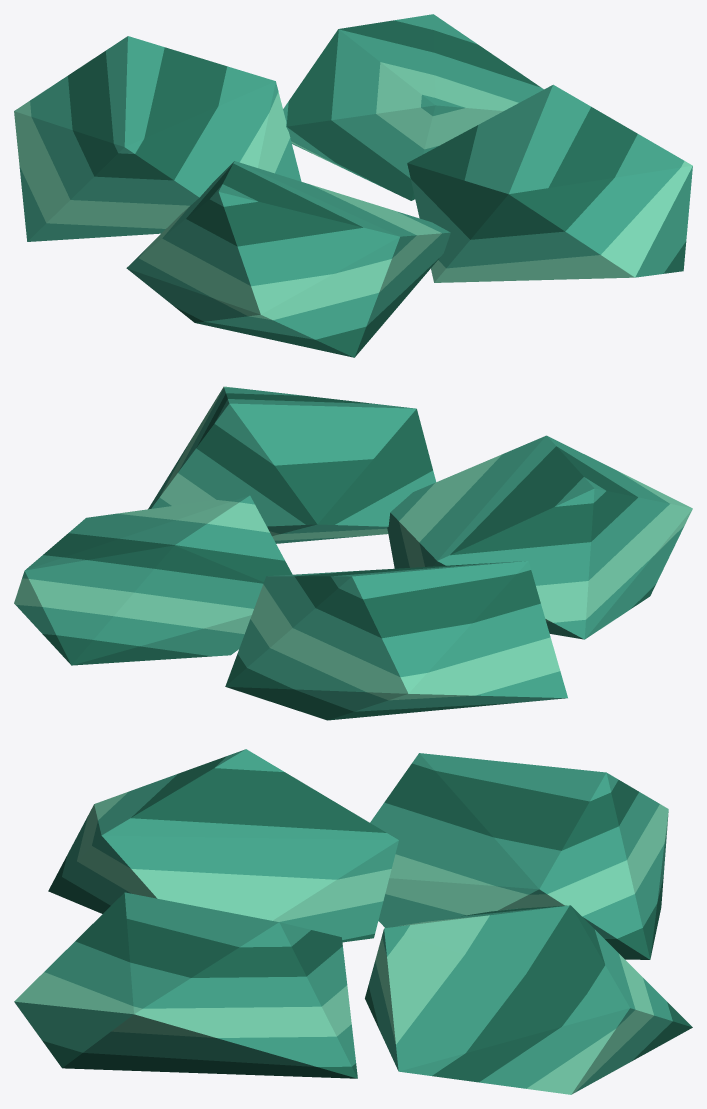
The model's file is minerai_cuivre_1.glb.
3 views of the same model, one above another, from view 1: azimuth 30°, elevation 25°; view 2: azimuth 150°, elevation 25°; view 3: azimuth 270°, elevation 25° (orthographic). The views are drawn at different scales.
Parts seen in each view (by area): view 1: minerai_malachite.004, minerai_malachite_sombre.004, minerai_malachite_claire.004; view 2: minerai_malachite.004, minerai_malachite_sombre.004, minerai_malachite_claire.004; view 3: minerai_malachite.004, minerai_malachite_sombre.004, minerai_malachite_claire.004.
Part boxes in pixels (x1=…): minerai_malachite.004: x1=19, y1=14, x2=692, y2=339; minerai_malachite_sombre.004: x1=68, y1=20, x2=686, y2=357; minerai_malachite_claire.004: x1=14, y1=62, x2=692, y2=320; minerai_malachite.004: x1=15, y1=387, x2=684, y2=711; minerai_malachite_sombre.004: x1=42, y1=393, x2=655, y2=720; minerai_malachite_claire.004: x1=14, y1=386, x2=692, y2=700; minerai_malachite.004: x1=14, y1=749, x2=672, y2=1092; minerai_malachite_sombre.004: x1=42, y1=756, x2=692, y2=1082; minerai_malachite_claire.004: x1=14, y1=791, x2=668, y2=1094.
Size of the model in its own units: 0.5145 by 0.1183 by 0.5375.
